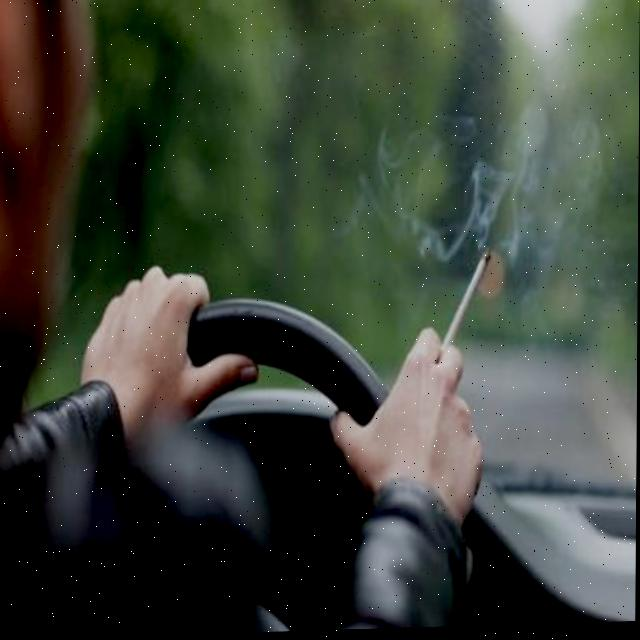cigarette: (440, 252, 496, 360)
